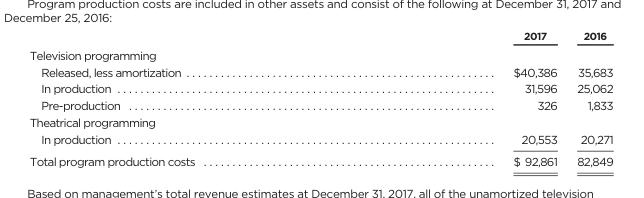table: (28, 29, 612, 167)
table column: (28, 29, 353, 167), (353, 29, 566, 167), (566, 29, 612, 167)
table column header: (28, 29, 612, 44)
table projected row header: (28, 44, 612, 62), (28, 113, 612, 130)
table row: (28, 130, 612, 149), (28, 44, 612, 62), (28, 149, 612, 167), (28, 62, 612, 79), (28, 79, 612, 96), (28, 96, 612, 113), (28, 113, 612, 130), (28, 29, 612, 44)
